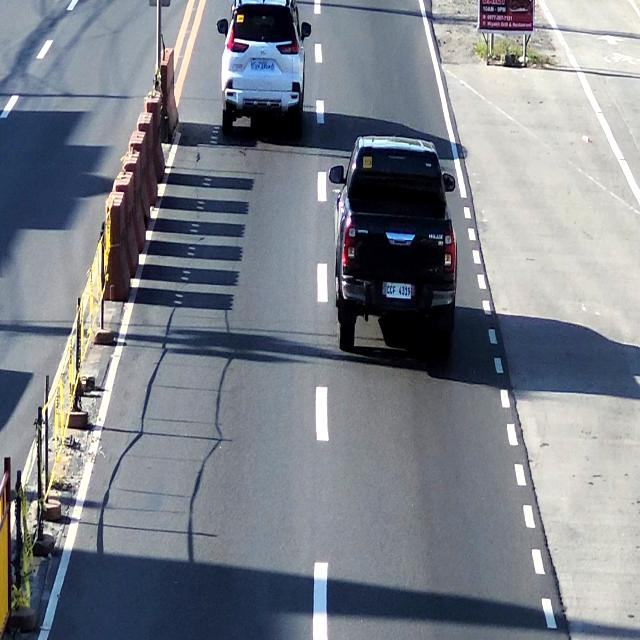Car: (335, 136, 455, 354), (221, 0, 305, 133)
License-Plate: (386, 282, 412, 304), (250, 59, 275, 74)
